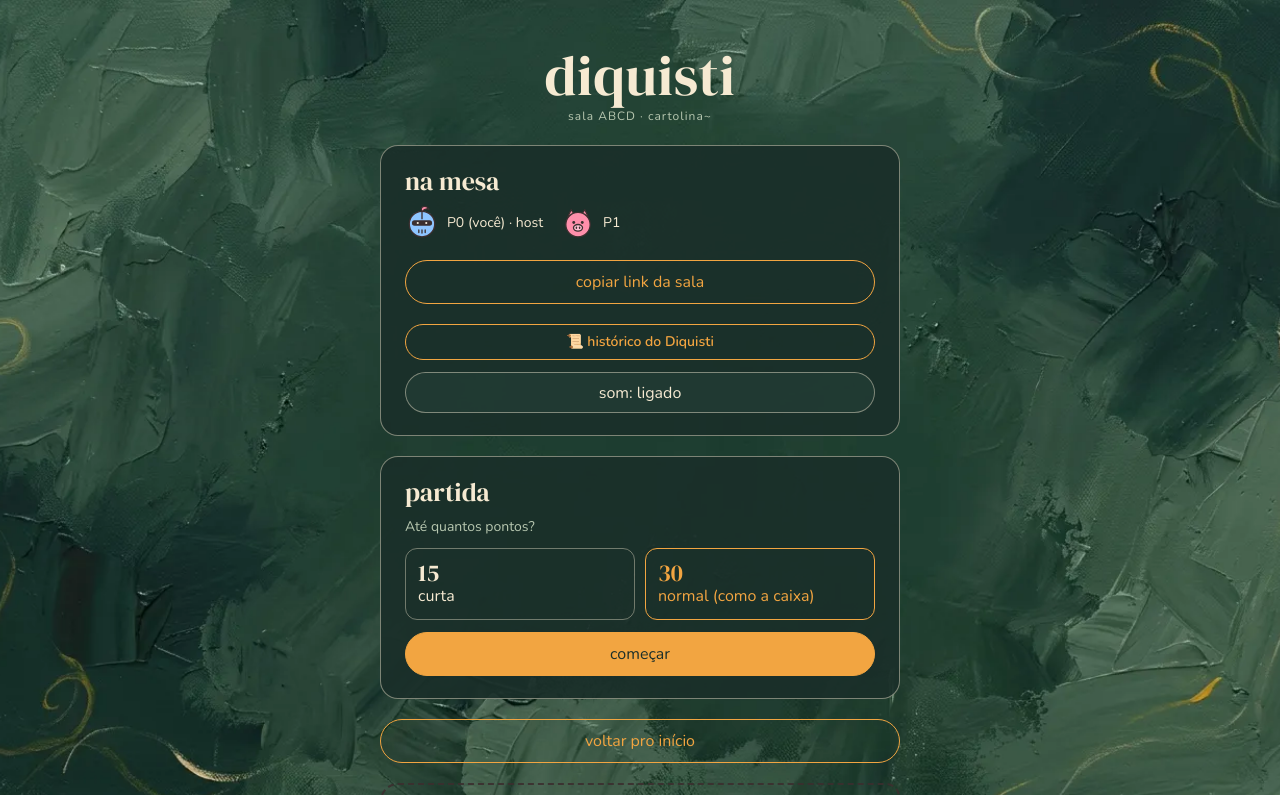
Test: lobby do Diquisti › com menos de 3, avisa em vez de começar
Expected: the text "precisa de pelo menos 3 pessoas" is not shown
Click the button "começar".
click(640, 654)  # box [405,632,875,676]
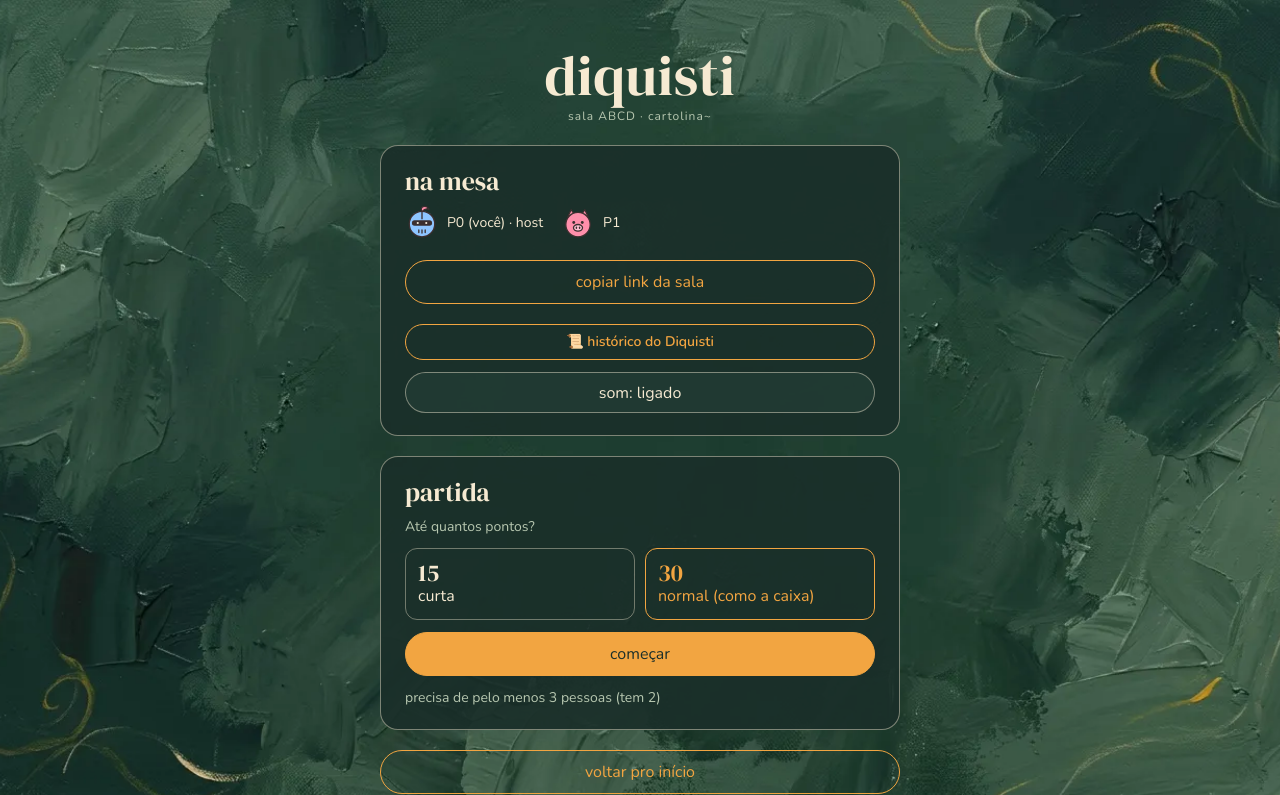
Expected: the text "precisa de pelo menos 3 pessoas (tem 2)" is shown, [405,688,661,707]
